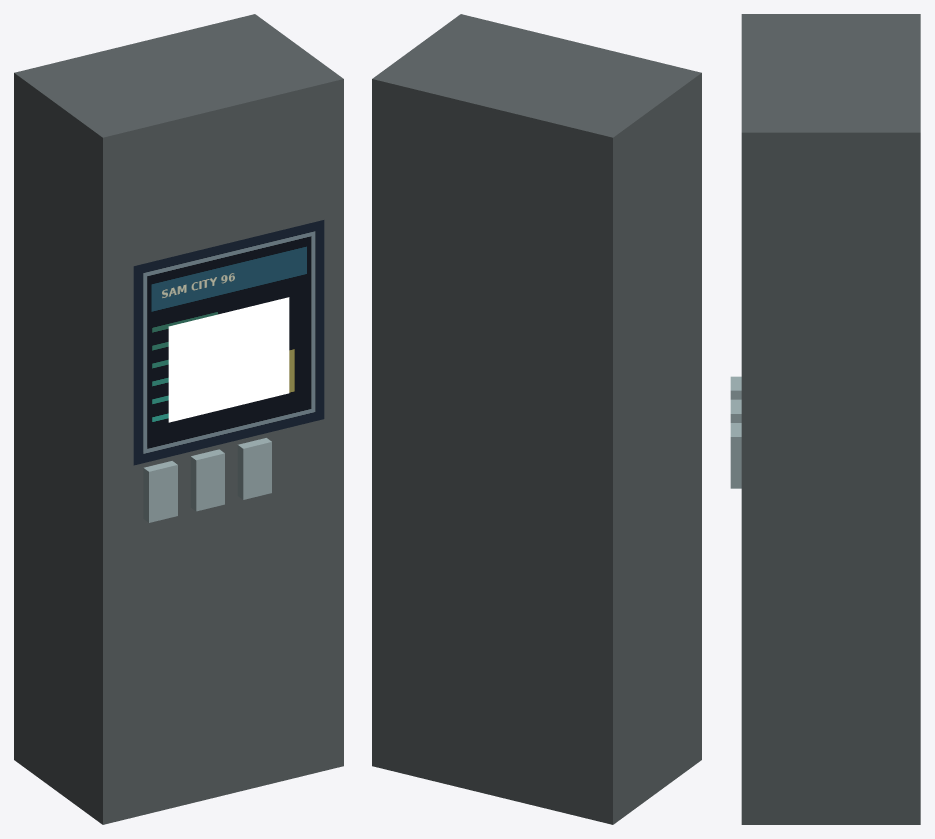
The model's file is pay_machine.glb.
The picture shows the model from 3 angles, left to right: view 1: azimuth 30°, elevation 25°; view 2: azimuth 150°, elevation 25°; view 3: azimuth 270°, elevation 25°; orthographic projection.
Parts seen in each view (by area): view 1: object 2, object 1, object 3; view 2: object 2; view 3: object 2.
Part boxes in pixels (x1,y1,x2,y2): object 2: (14,14,343,824); object 1: (133,220,324,465); object 3: (168,297,289,422); object 2: (372,14,701,824); object 2: (730,14,920,824).
Size of the model in its own units: 0.5519 by 1.5 by 0.3745.
Materials: 3 (2 with a texture image).
